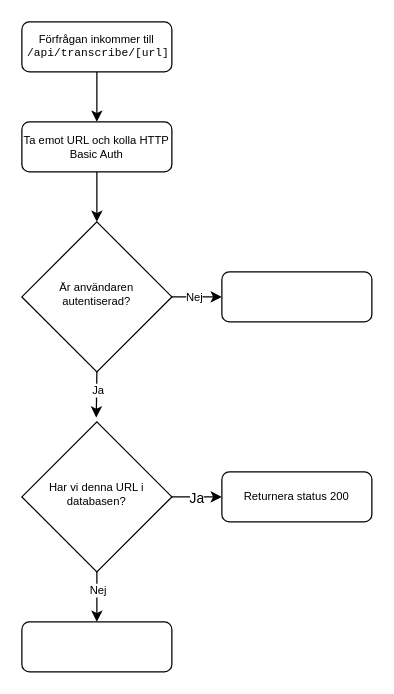
Image size: 394x694. Some labels were removed from this diagram. The centre of each missing label's shape, as x and y in pixels:
Lägg till i transkriberingskö: the point at 96,646
Returnera HTTP Error 401 Unauthorized: the point at 296,296
